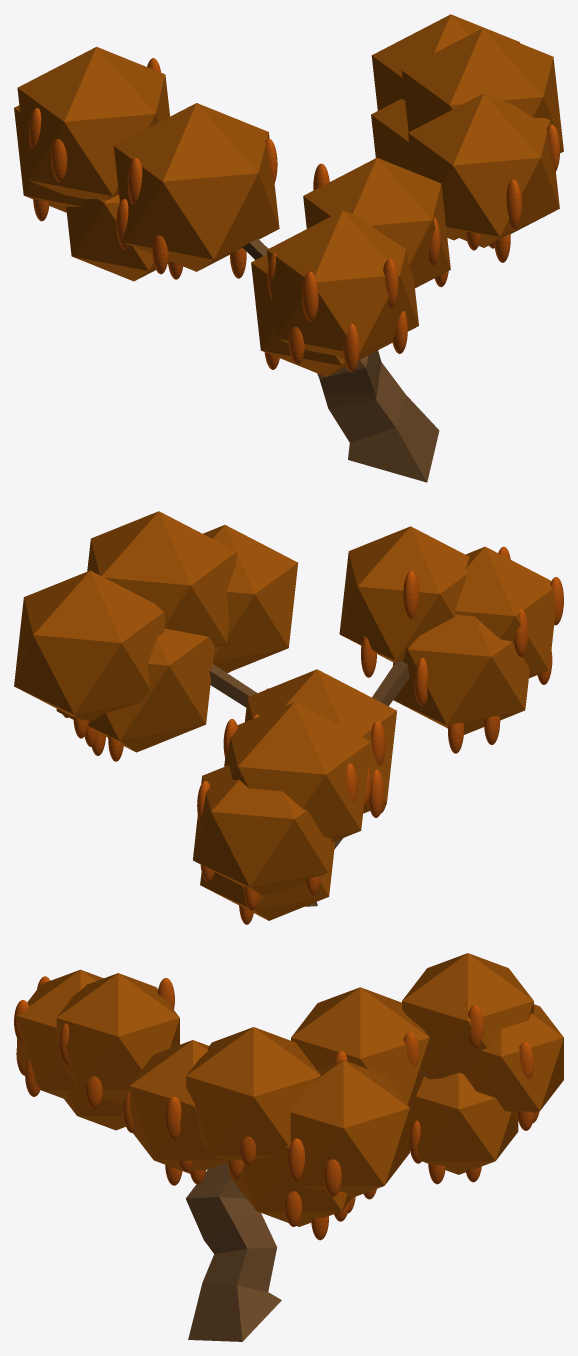
Rendered from Arvore.fbx.
The picture shows the model from 3 angles, top to bottom: view 1: azimuth 30°, elevation 25°; view 2: azimuth 150°, elevation 25°; view 3: azimuth 270°, elevation 25°; orthographic projection. The views are drawn at different scales.
Parts seen in each view (by area): view 1: Cube; view 2: Cube; view 3: Cube.
Part boxes in pixels (x1=…): Cube: x1=14, y1=14, x2=563, y2=482; Cube: x1=14, y1=511, x2=563, y2=924; Cube: x1=14, y1=953, x2=563, y2=1341.
Bounding box in the file's own units: 6904 × 6332 × 8949.
